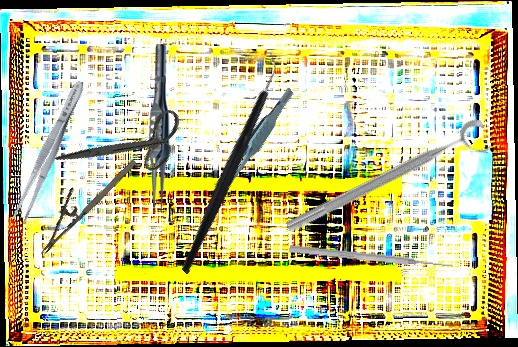Chopper: (117, 50, 339, 275)
Dressing Forceps: (9, 77, 90, 226)
Fixation Ring: (282, 116, 496, 249)
Iris Scissors: (54, 75, 196, 217)
Needle Holder: (22, 144, 140, 256)
Pusher: (288, 243, 454, 272)
Tissue Forceps: (197, 87, 313, 193), (148, 44, 170, 214)
